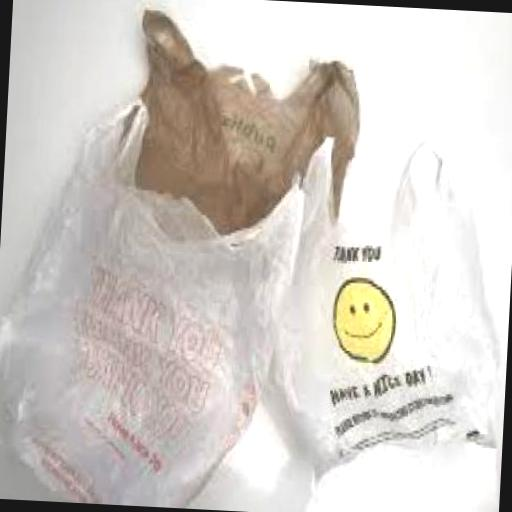plastic: (0, 90, 309, 511), (257, 126, 512, 506), (116, 6, 364, 253)
